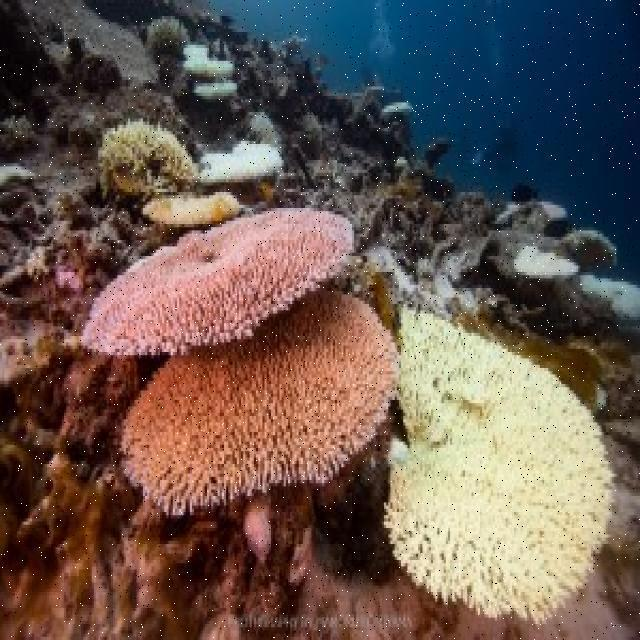Bleached: (394, 297, 629, 614), (20, 1, 165, 91), (98, 120, 196, 204), (203, 131, 288, 184), (181, 40, 237, 107), (582, 279, 639, 322), (521, 245, 582, 282), (497, 198, 569, 224), (147, 18, 193, 48), (1, 161, 37, 193), (383, 99, 415, 120)
Healthy: (109, 277, 400, 523), (80, 199, 355, 367)
